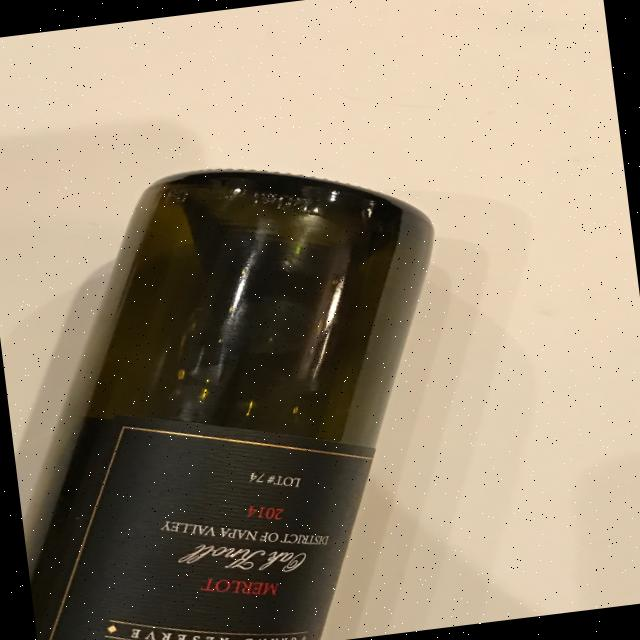glass: (0, 140, 482, 640)
